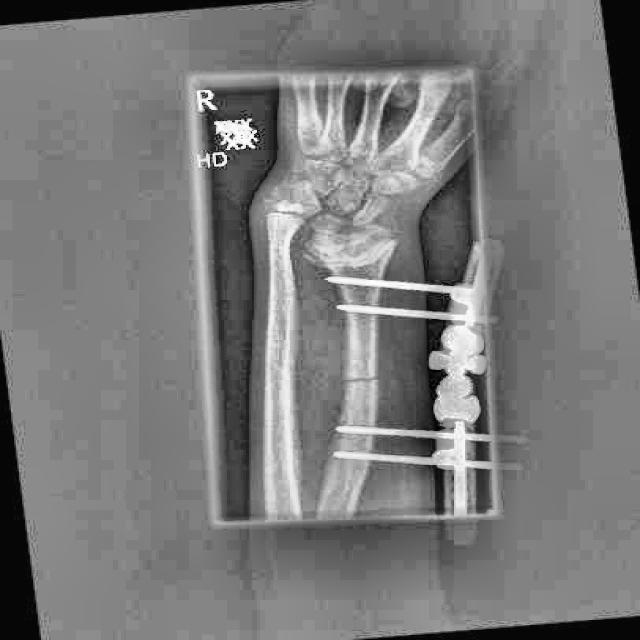fingers positive: (246, 185, 431, 276), (319, 349, 400, 404)
